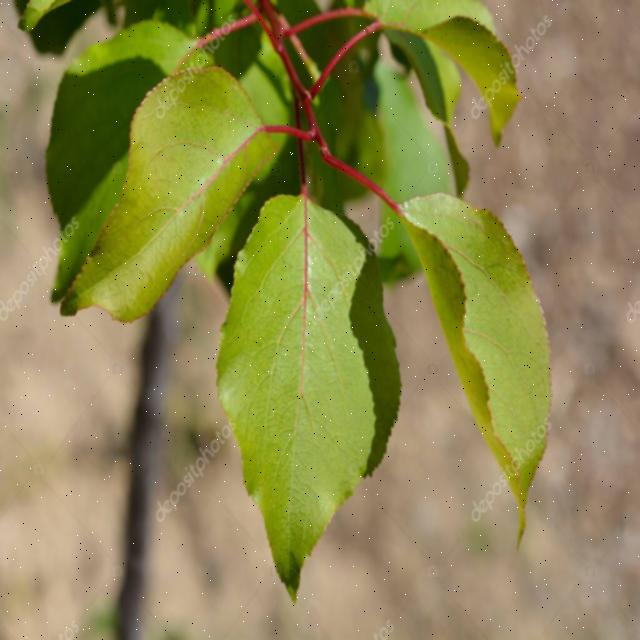yaprak: (397, 194, 541, 537), (244, 180, 371, 556), (108, 89, 228, 284), (365, 0, 526, 137)
